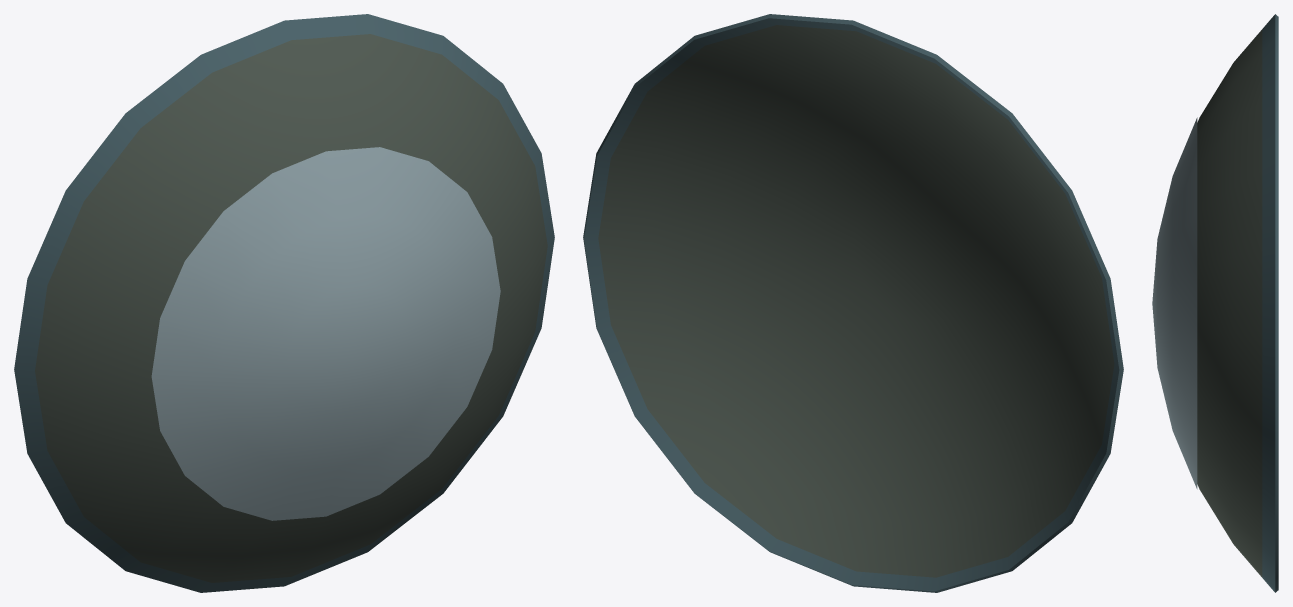
File: Rounded_Shield.fbx
3 renders of one model, left to right at view 1: azimuth 30°, elevation 25°; view 2: azimuth 150°, elevation 25°; view 3: azimuth 270°, elevation 25°, orthographic. The views are drawn at different scales.
Visible parts, largest first — view 1: R_Shield, R_Shield_Logo; view 2: R_Shield; view 3: R_Shield, R_Shield_Logo.
Boxes of the visible parts, x1,y1,x2,y2 form: R_Shield: [14, 14, 554, 592]; R_Shield_Logo: [151, 147, 500, 520]; R_Shield: [583, 14, 1123, 592]; R_Shield: [1197, 14, 1278, 592]; R_Shield_Logo: [1152, 117, 1197, 489].
Bounding box in the file's own units: 3.93 × 3.93 × 0.8516.
